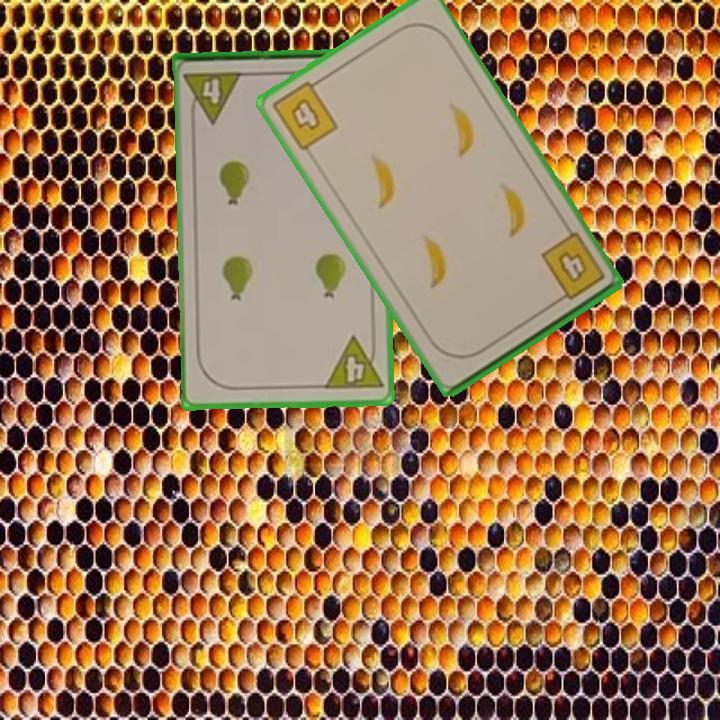4b: (267, 74, 341, 154), (536, 228, 608, 307)
4p: (320, 332, 386, 393), (181, 68, 246, 126)
